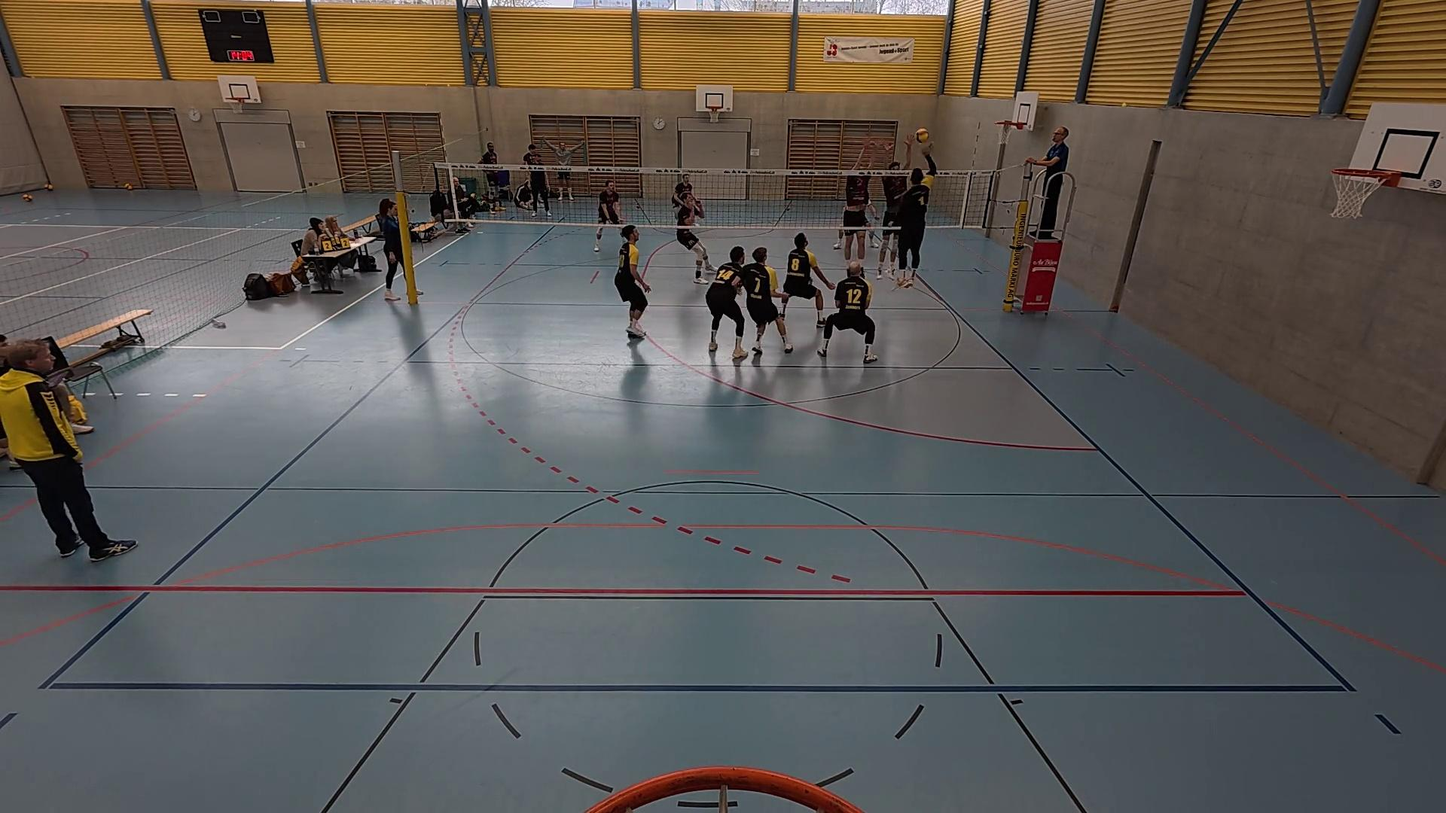Attack: (883, 141, 936, 291)
Block: (836, 134, 881, 274)
Player: (815, 260, 880, 364), (778, 232, 833, 339), (741, 243, 793, 356), (703, 248, 749, 358), (613, 224, 651, 340), (675, 190, 710, 282), (837, 185, 881, 252), (593, 180, 624, 251), (670, 174, 698, 219)
ball: (914, 127, 931, 142)
